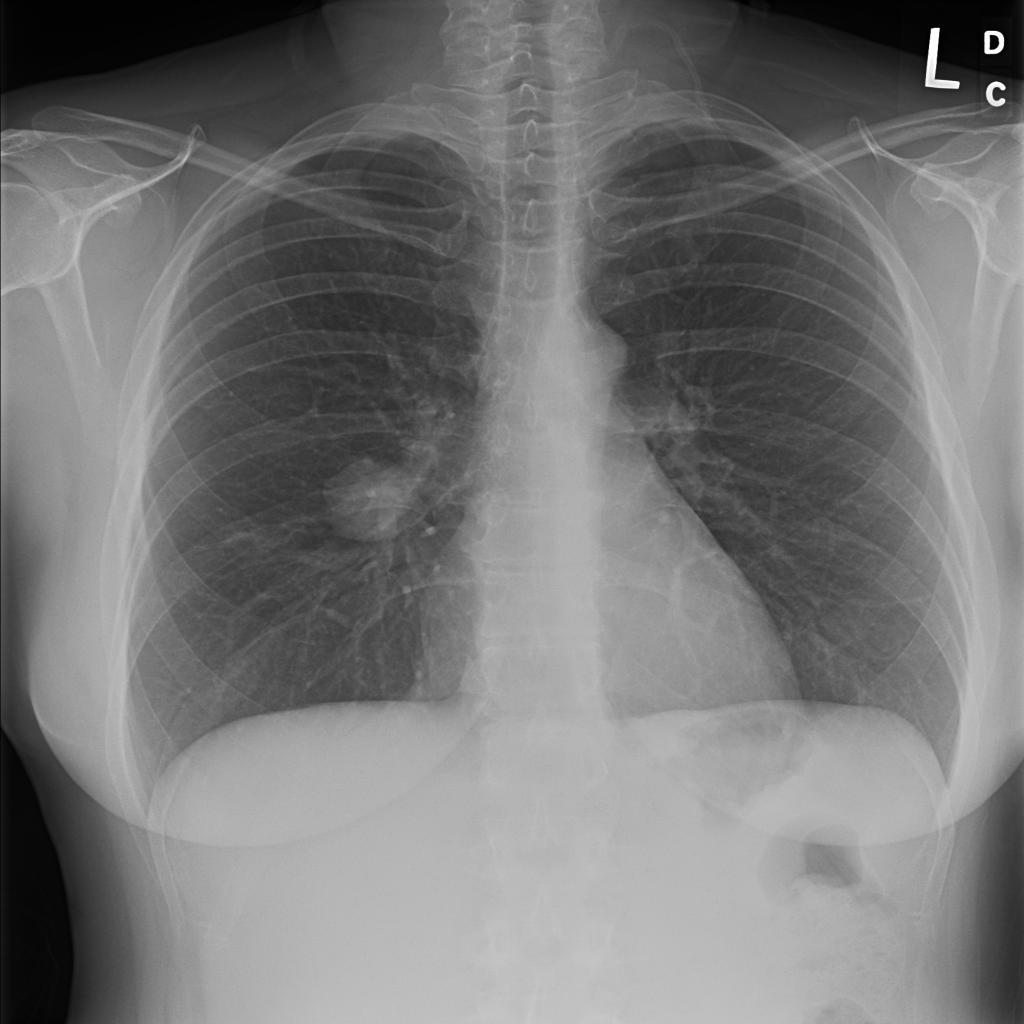Nodule: (153, 88, 203, 116), (268, 150, 295, 170)
